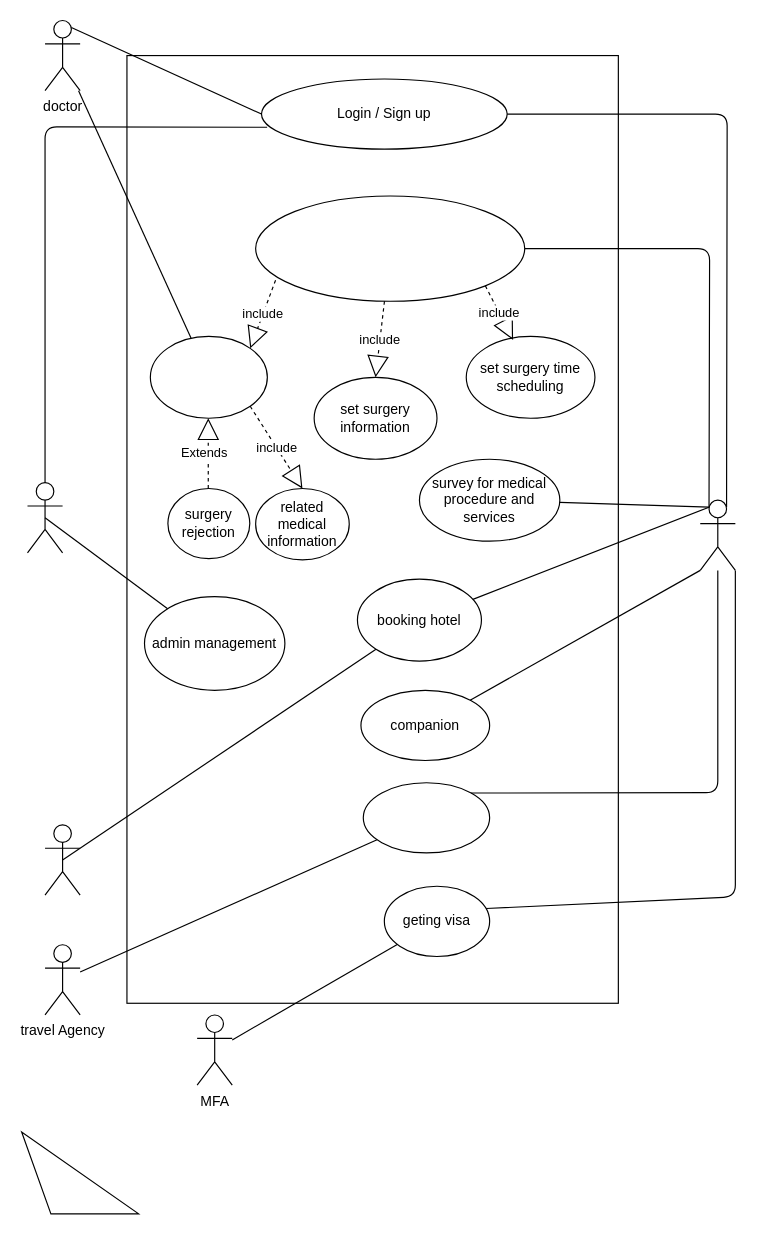
Some shapes in this 758 by 1234 pixel diagram are drawn without their labels. The box of each missing label's shape, as (x1, y1, x2, y2) in pixels:
Admin: (26, 481, 63, 553)
getting travel ticket: (362, 782, 490, 853)
hotelier: (44, 824, 80, 895)
Online visit: (149, 335, 267, 418)
patient: (699, 499, 735, 570)
Therapeutic Process Management: (254, 195, 525, 301)
